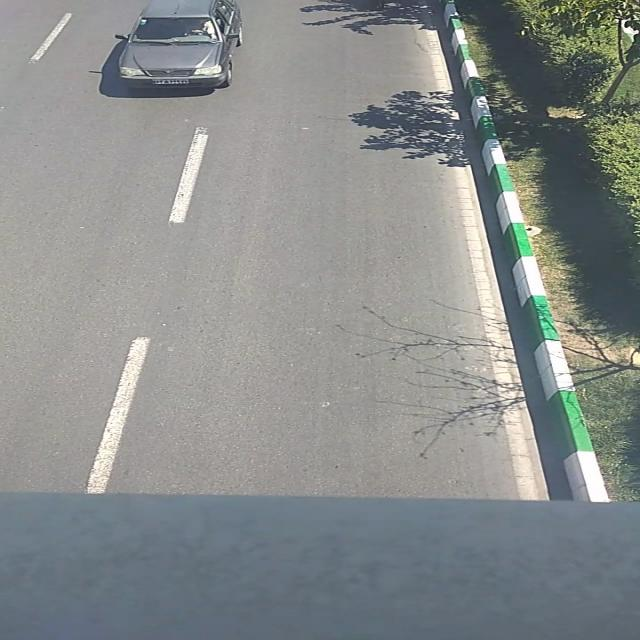car: (115, 0, 242, 88)
